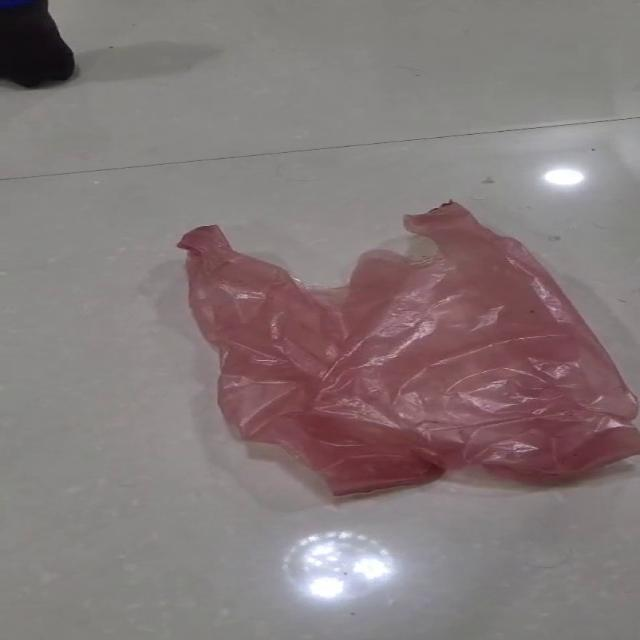plastic: (175, 198, 638, 498)
